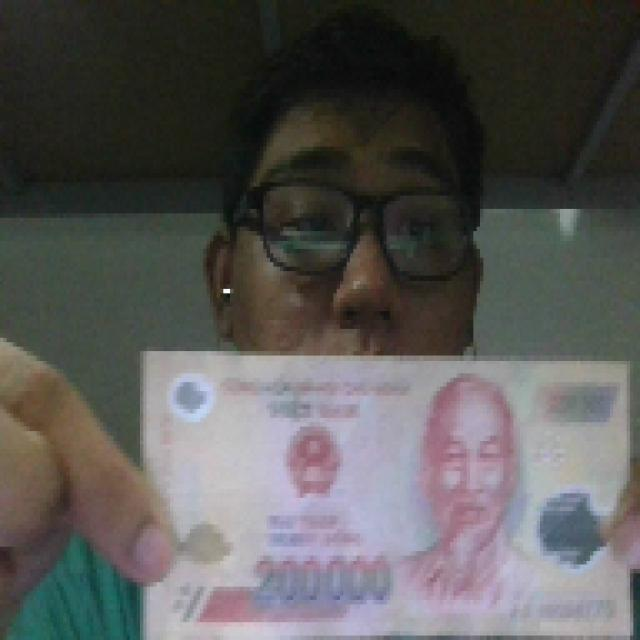200 000 VND: (130, 336, 634, 629)
